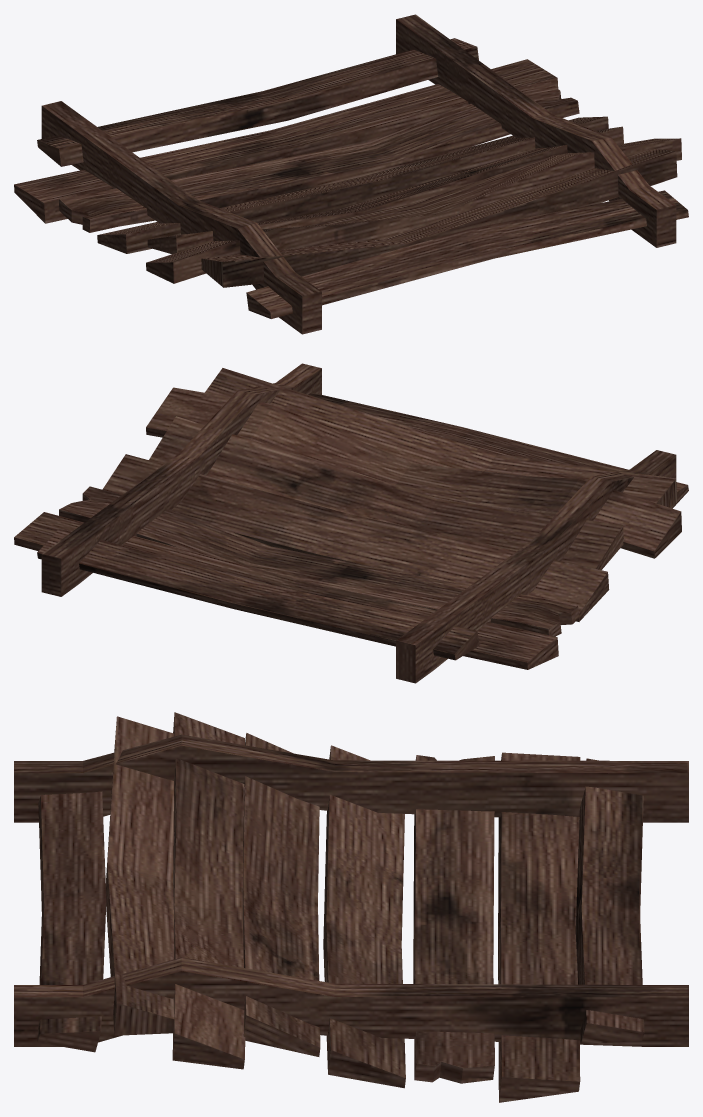
The model's file is Bridge.fbx.
The picture shows the model from 3 angles, top to bottom: view 1: azimuth 30°, elevation 25°; view 2: azimuth 150°, elevation 25°; view 3: azimuth 270°, elevation 25°; orthographic projection. The views are drawn at different scales.
Parts seen in each view (by area): view 1: SM_Bld_Leanto_01; view 2: SM_Bld_Leanto_01; view 3: SM_Bld_Leanto_01.
Part boxes in pixels (box(x1,y1,x2,y2)): SM_Bld_Leanto_01: box(14, 14, 688, 334); SM_Bld_Leanto_01: box(14, 363, 688, 683); SM_Bld_Leanto_01: box(14, 712, 688, 1102).
Bounding box in the file's own units: 163 × 22.58 × 143.
